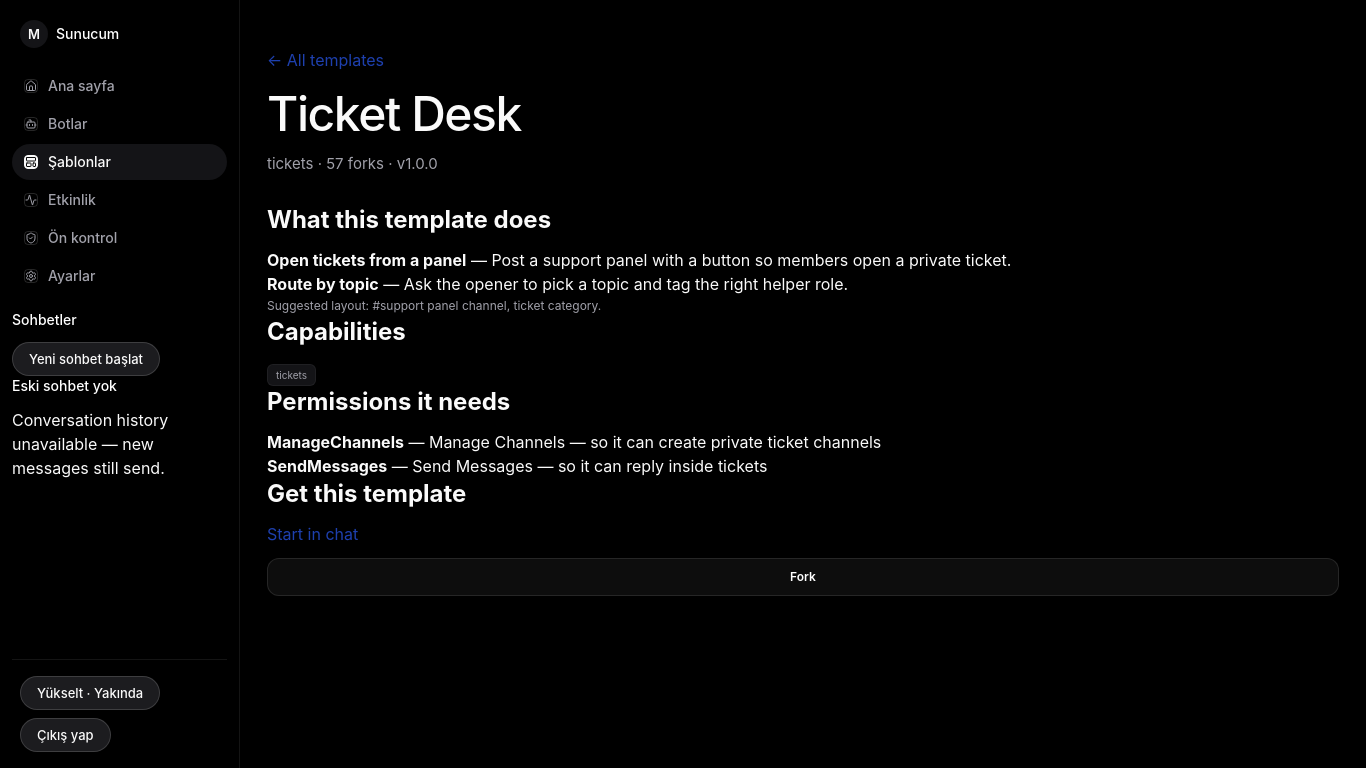
template detail page › shows a logged-out line with a login link on fork 401, without fake success
Check: the heading "Ticket Desk" is shown, box [267,84,521,143]
Click the button "Fork".
click(803, 576)  # box [267,558,1339,596]
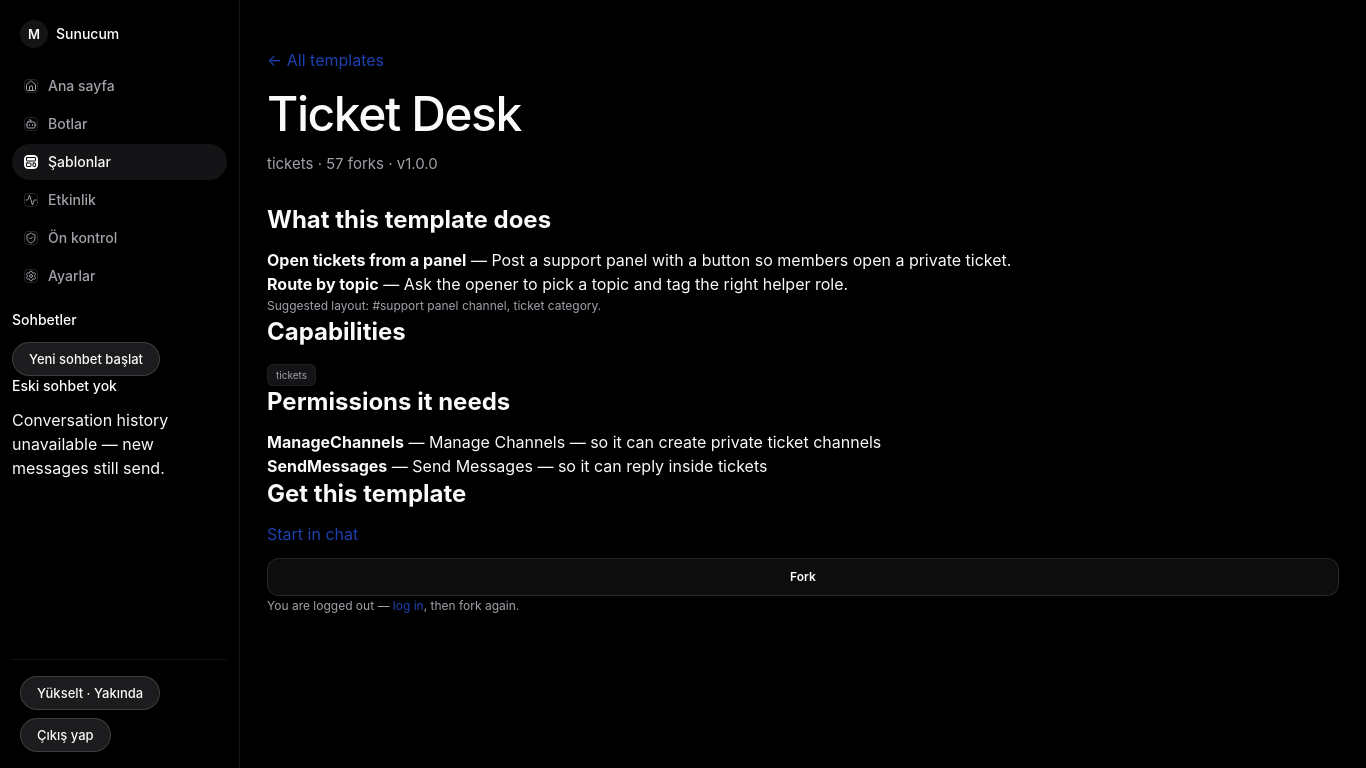
Check: the text "57 forks" is shown, box [267,154,438,173]
Check: the message "You are logged out — log in , then fork again." is shown, box [267,598,519,612]
